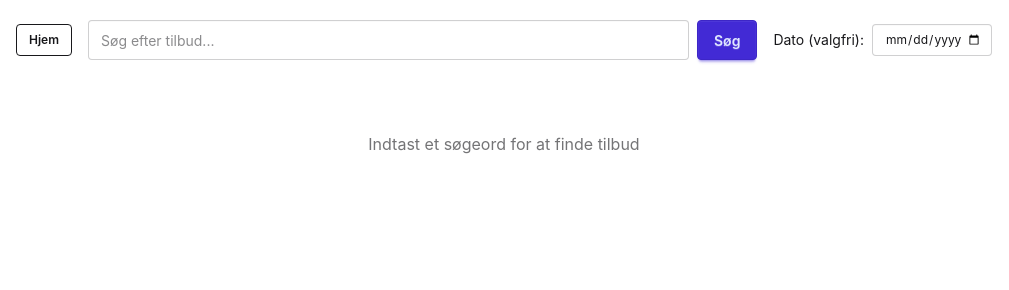
Scenario: SearchPage › filters offers by date
In the field with placeholder "Søg efter tilbud...": [388, 40] box x1=88 y1=20 x2=689 y2=60, type "test"
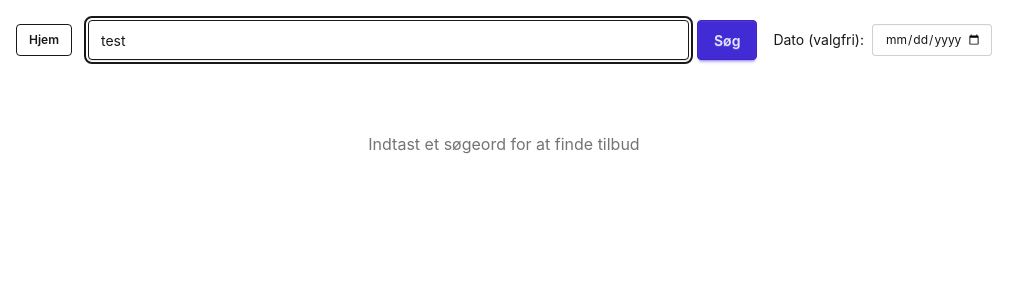
Click the button "Søg": [727, 40] box x1=697 y1=20 x2=757 y2=60
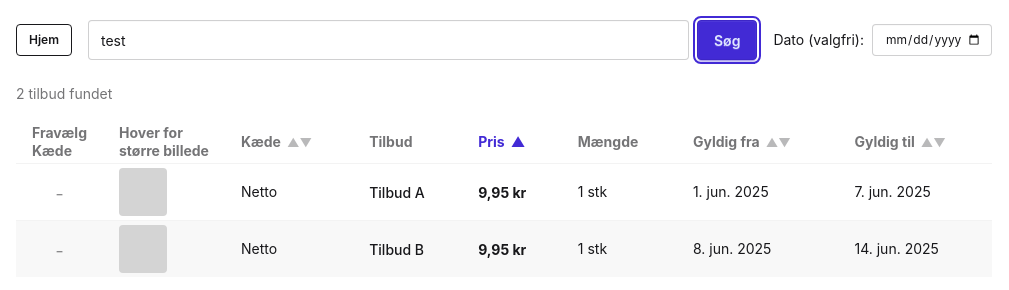
Result: the text "Tilbud A" is shown at x1=369 y1=184 x2=425 y2=200
Result: the text "Tilbud B" is shown at x1=369 y1=240 x2=424 y2=258
In the date field labelled "Dato (valgfri):": [932, 40] box x1=872 y1=24 x2=992 y2=56, type "2025-06-03"
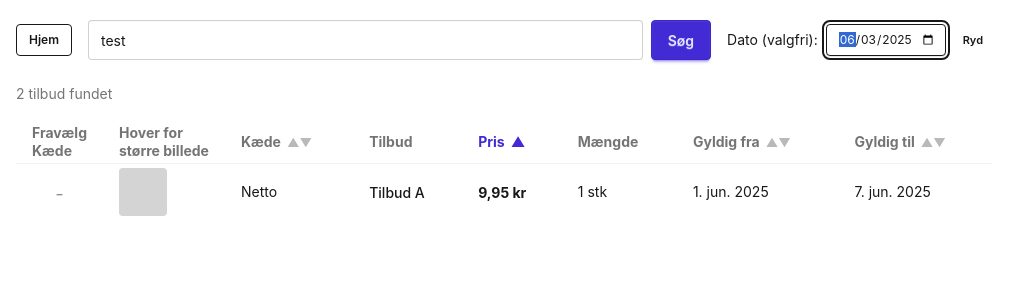
Result: the text "Tilbud A" is shown at x1=369 y1=184 x2=425 y2=200
Result: the text "Tilbud B" is gone
